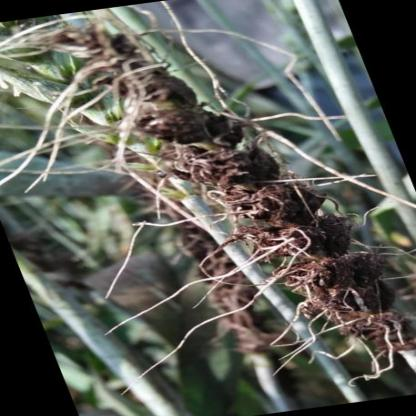Wheat Smut: (256, 223, 345, 256), (118, 65, 183, 103), (314, 261, 374, 300), (182, 152, 262, 181), (226, 193, 306, 218), (154, 112, 212, 142), (332, 307, 387, 332), (73, 34, 129, 58), (370, 336, 414, 352)
